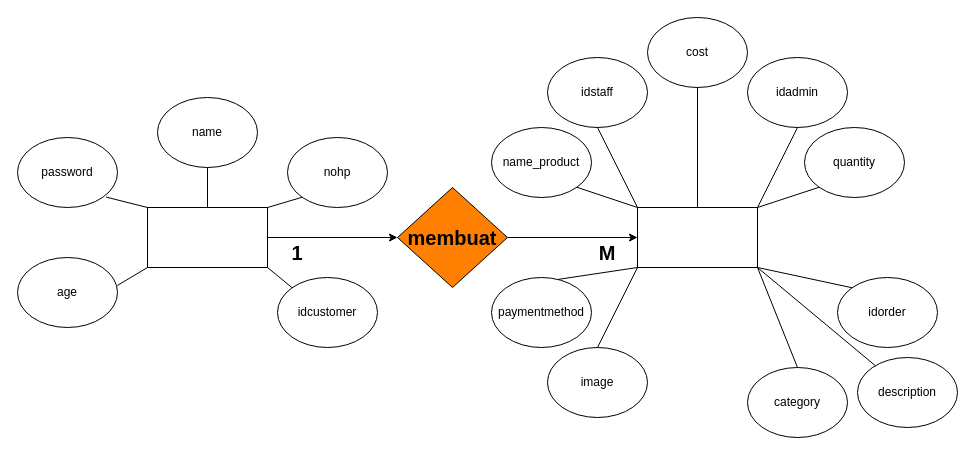
This 975x455 diagram has some shape labels left out. The shapes that lost their labels are listed below. From the top down, each one's centre as x and y in pixels, then its label:
At pixel 207 237: "pelanggan".
At pixel 697 237: "pesanan".
